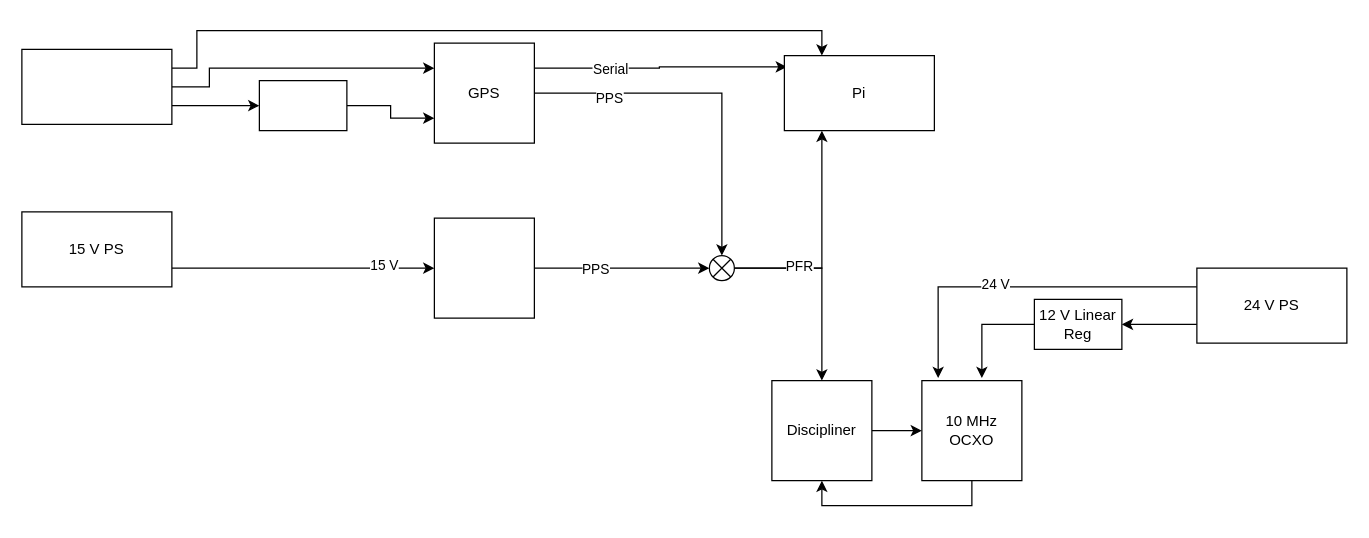
The diagram is 1369 pixels wide and 538 high, and some of its shapes have lost their labels. Each missing label, with the box of its shape:
3.3 V Linear Reg: (258, 79, 347, 131)
5 V PS: (21, 48, 172, 124)
Rubidium: (433, 217, 534, 318)
